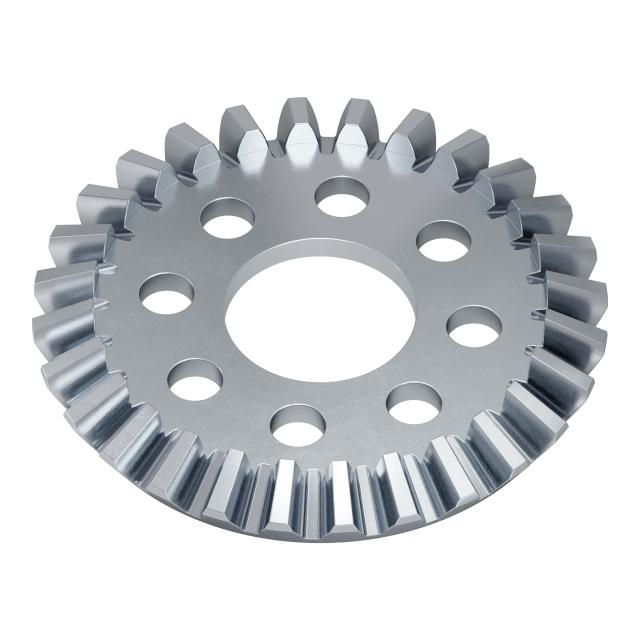Gear: (26, 90, 612, 548)
